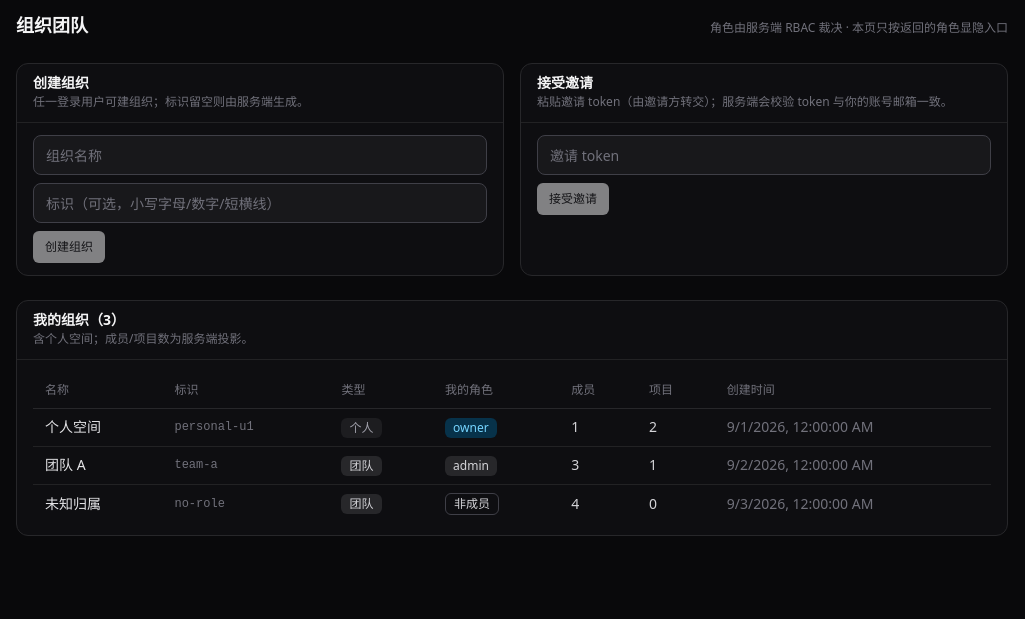
Scenario: /organizations 创建组织 › POST body 只带 name/slug；成功后提示 + 失效重取（新组织出现在列表中）
Expected: the link "团队 A" is shown, left=45, top=455, right=86, bottom=474
Type "团队 B" into the field labelled "组织名称". click: (260, 155)
box: left=33, top=135, right=487, bottom=175
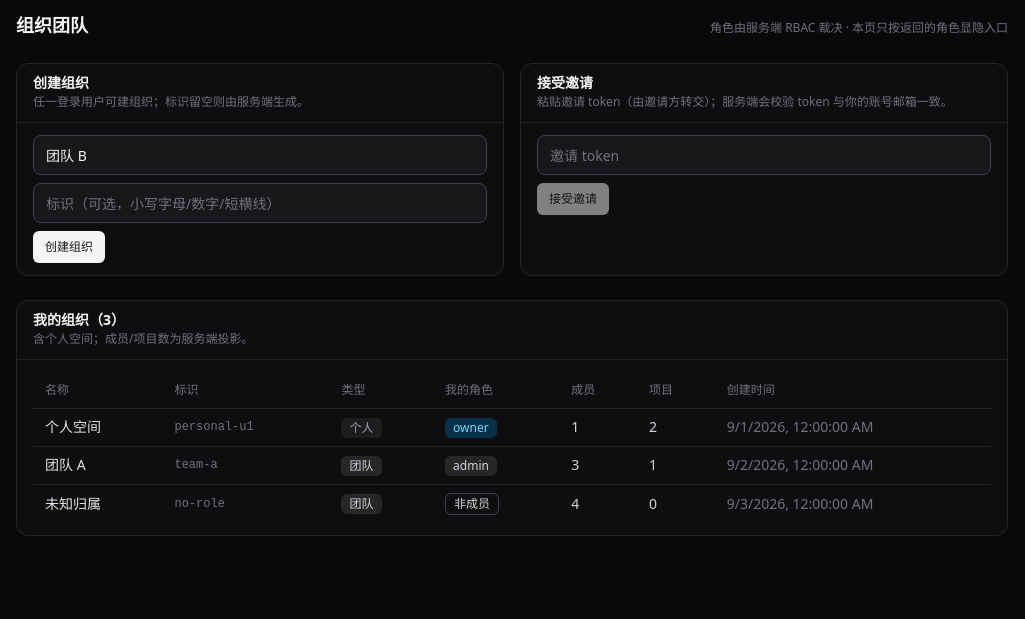
Type "team-b" into the field named "组织标识". click: (260, 203)
box: left=33, top=183, right=487, bottom=223
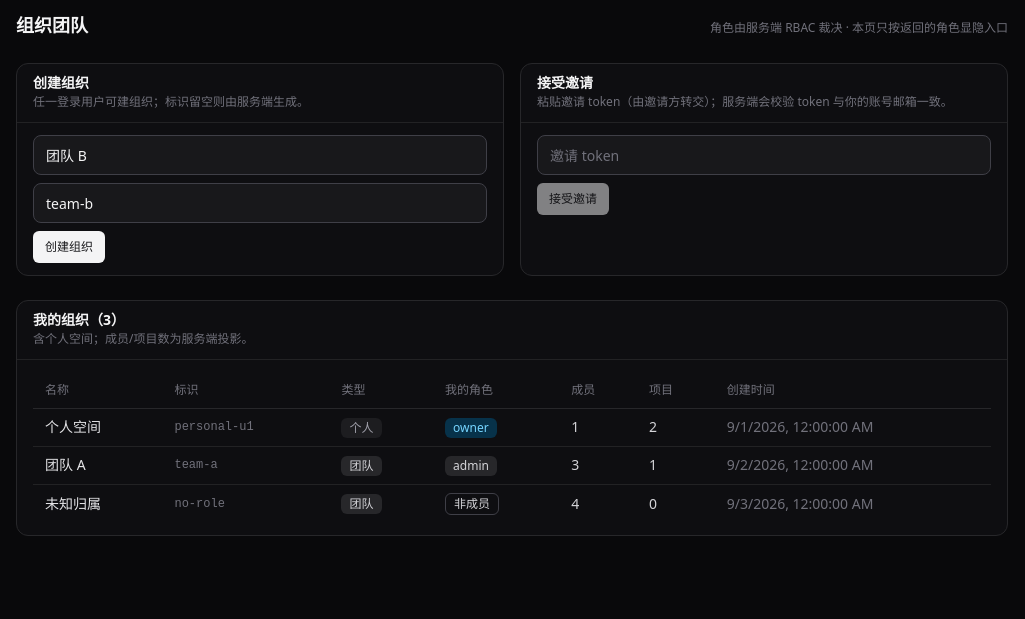
Click the button "创建组织". click: (69, 247)
box: left=33, top=231, right=105, bottom=263
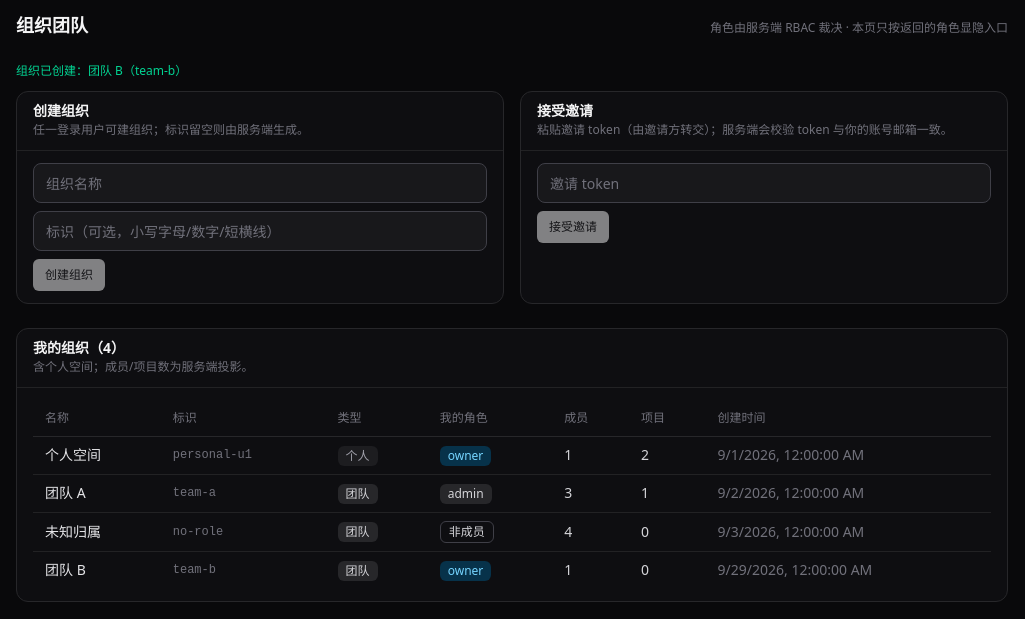
Now the message reads "组织已创建：团队 B（team-b）", box left=16, top=62, right=187, bottom=79
Now the link "团队 B" is shown, box left=45, top=560, right=86, bottom=579
